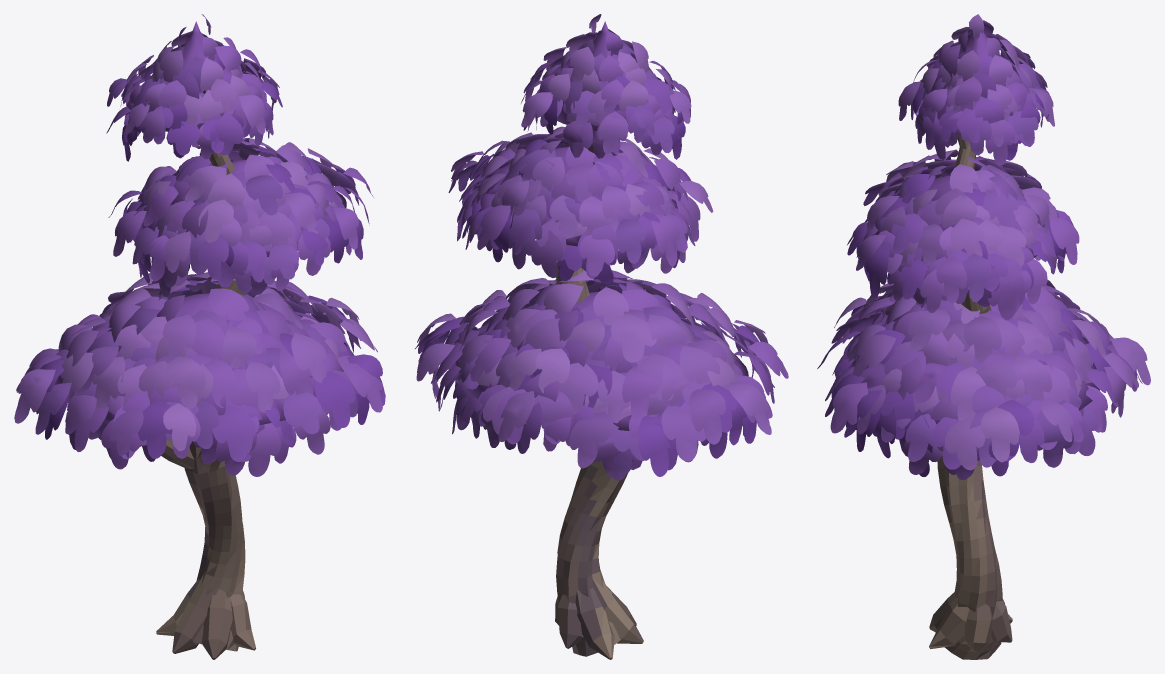
File: purple.glb
3 renders of one model, left to right at view 1: azimuth 30°, elevation 25°; view 2: azimuth 150°, elevation 25°; view 3: azimuth 270°, elevation 25°, orthographic.
Parts seen in each view (by area): view 1: purple; view 2: purple; view 3: purple.
Boxes of the visible parts, bbox=[...] form: purple: bbox=[14, 14, 385, 659]; purple: bbox=[415, 14, 788, 659]; purple: bbox=[817, 14, 1150, 659].
Size of the model in its own units: 4.2 by 7.33 by 3.49.
